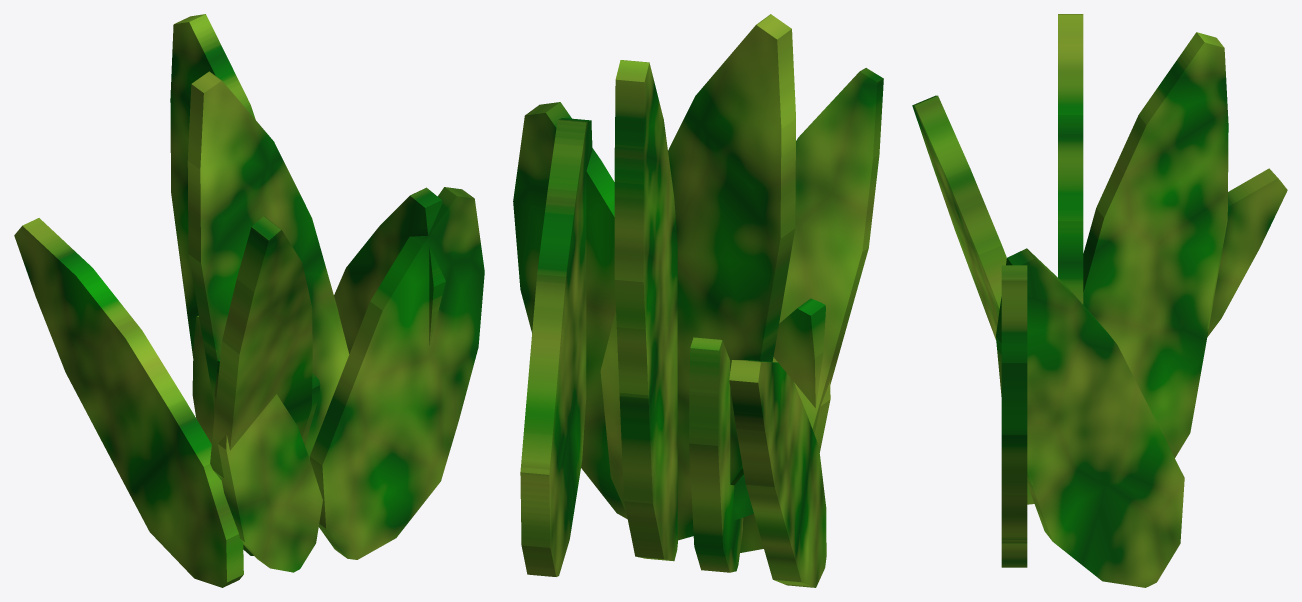
Rendered from GreenFlower.fbx.
3 renders of one model, left to right at view 1: azimuth 30°, elevation 25°; view 2: azimuth 150°, elevation 25°; view 3: azimuth 270°, elevation 25°, orthographic. The views are drawn at different scales.
Visible parts, largest first — view 1: Plane.001; view 2: Plane.001; view 3: Plane.001.
Boxes of the visible parts, left/top/right/bottom form: Plane.001: left=14, top=14, right=484, bottom=587; Plane.001: left=513, top=14, right=883, bottom=587; Plane.001: left=912, top=14, right=1287, bottom=587.
Bounding box in the file's own units: 0.1527 × 0.2126 × 0.1467.
Materials: 1 (1 with a texture image).
